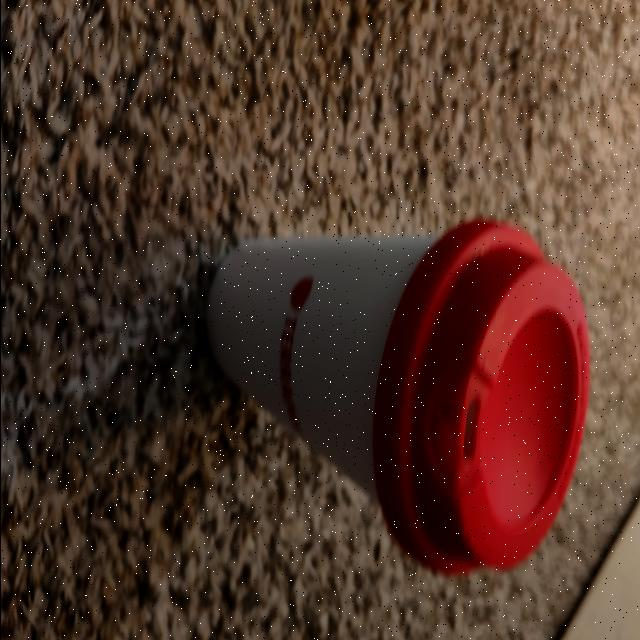mug: (210, 244, 568, 564)
